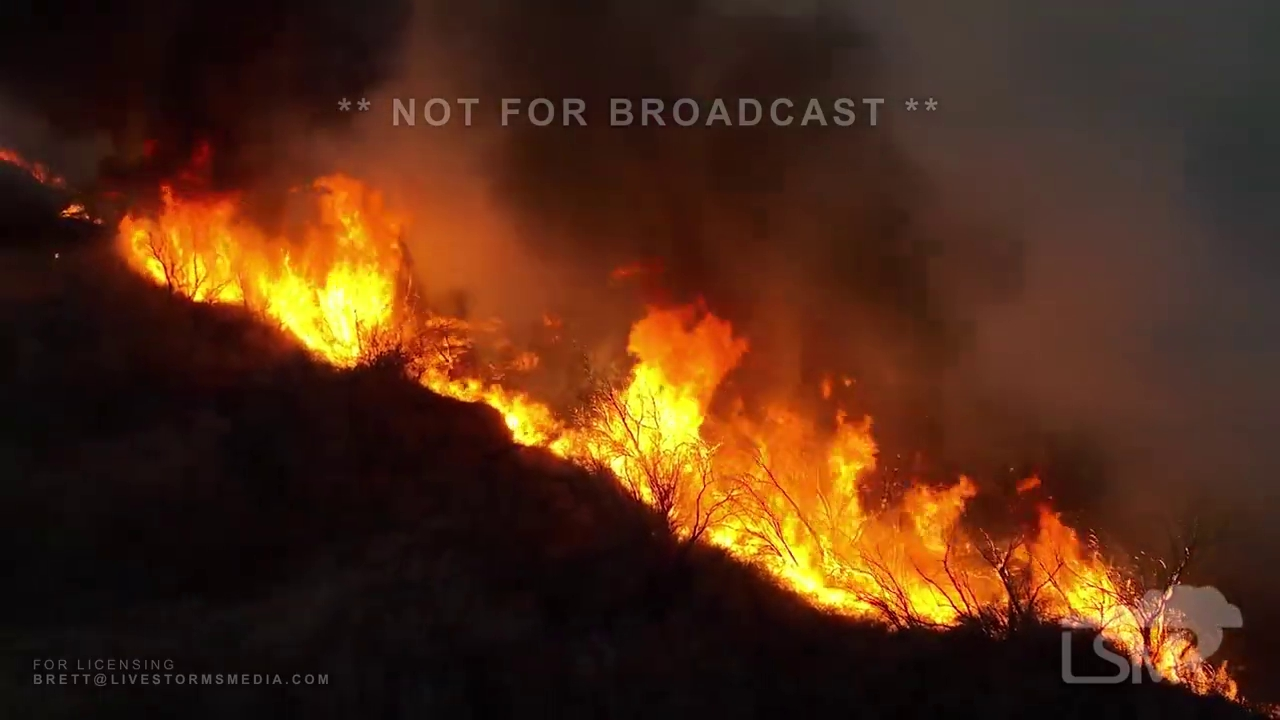forest_fire: (115, 175, 1237, 697), (0, 153, 54, 181), (1017, 477, 1038, 502), (67, 204, 88, 217), (522, 353, 534, 363), (1168, 607, 1172, 610), (1160, 588, 1168, 589)
